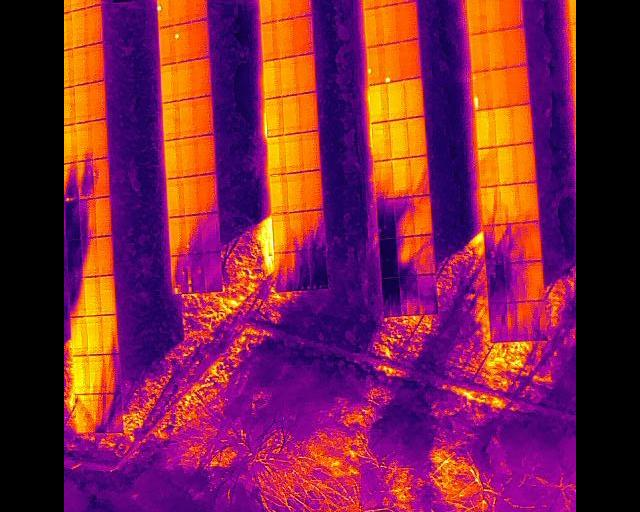Cell: (173, 22, 192, 62), (384, 42, 402, 83), (368, 44, 384, 84), (64, 161, 79, 200)
Cell-Multi: (171, 254, 190, 293), (188, 253, 204, 292), (157, 0, 174, 26)
No-Anomaly: (513, 105, 535, 144), (402, 37, 421, 79), (408, 116, 427, 158), (390, 117, 408, 161), (479, 147, 499, 186), (520, 183, 540, 222), (295, 52, 314, 93), (506, 28, 527, 65), (293, 14, 312, 54), (364, 6, 383, 46), (413, 195, 432, 235), (500, 183, 519, 223), (523, 222, 542, 262), (202, 172, 220, 214), (392, 156, 410, 198), (401, 0, 419, 42), (405, 76, 423, 118), (373, 159, 392, 198), (491, 68, 510, 107), (510, 65, 529, 104), (517, 143, 536, 182), (301, 129, 319, 170), (72, 355, 91, 393), (494, 107, 513, 145), (524, 261, 543, 299), (470, 33, 489, 70), (477, 110, 496, 147), (165, 138, 183, 177), (182, 135, 200, 174), (192, 19, 210, 58), (262, 58, 280, 97), (369, 83, 387, 122), (268, 134, 285, 175), (383, 3, 400, 44), (179, 59, 196, 99), (184, 174, 201, 214), (196, 95, 213, 135), (199, 133, 216, 173), (298, 92, 315, 132), (305, 171, 322, 211), (92, 119, 109, 159), (272, 172, 288, 214), (162, 63, 180, 100), (88, 83, 106, 120), (164, 100, 181, 139), (170, 216, 187, 255), (71, 316, 88, 355), (261, 20, 278, 59), (84, 276, 101, 315), (374, 121, 391, 160), (88, 43, 105, 82), (466, 0, 486, 33), (277, 17, 293, 58), (285, 132, 301, 173), (387, 82, 404, 120), (499, 145, 516, 183), (168, 177, 184, 217), (181, 97, 197, 137), (274, 213, 290, 253), (288, 172, 304, 212), (87, 315, 103, 355), (94, 158, 110, 198), (85, 6, 102, 43), (97, 238, 114, 275), (158, 25, 174, 64), (97, 197, 113, 236), (500, 0, 522, 28), (280, 55, 295, 96), (77, 122, 93, 160), (267, 97, 283, 135), (196, 57, 211, 97), (283, 93, 298, 133), (101, 275, 116, 315), (489, 31, 505, 68), (71, 9, 86, 46), (486, 0, 503, 31), (75, 83, 88, 123), (74, 45, 88, 82), (173, 0, 189, 24), (189, 0, 207, 21), (275, 0, 292, 20), (292, 0, 311, 17), (260, 0, 274, 22), (362, 0, 380, 8), (70, 0, 84, 9)
Shadowing: (525, 300, 546, 340), (485, 223, 504, 265), (481, 186, 501, 225), (507, 300, 526, 341), (203, 252, 222, 292), (397, 235, 416, 275), (488, 302, 507, 341), (411, 155, 429, 196), (417, 274, 435, 315), (505, 223, 523, 264), (308, 251, 327, 289), (377, 198, 396, 236), (186, 214, 204, 253), (488, 265, 506, 304), (307, 210, 324, 251), (400, 275, 417, 316), (506, 263, 524, 301), (204, 212, 221, 252), (380, 236, 397, 276), (76, 393, 93, 432), (77, 160, 94, 199), (82, 237, 99, 276), (383, 276, 400, 315), (396, 196, 413, 235), (416, 235, 433, 274), (290, 210, 306, 251), (107, 394, 124, 432), (80, 198, 96, 238), (104, 313, 120, 353), (69, 277, 85, 316), (64, 200, 80, 239), (67, 239, 83, 277), (291, 251, 307, 289), (90, 354, 105, 394), (106, 354, 121, 394), (92, 394, 107, 433), (275, 252, 290, 290)
Unclassified: (472, 70, 492, 109)
